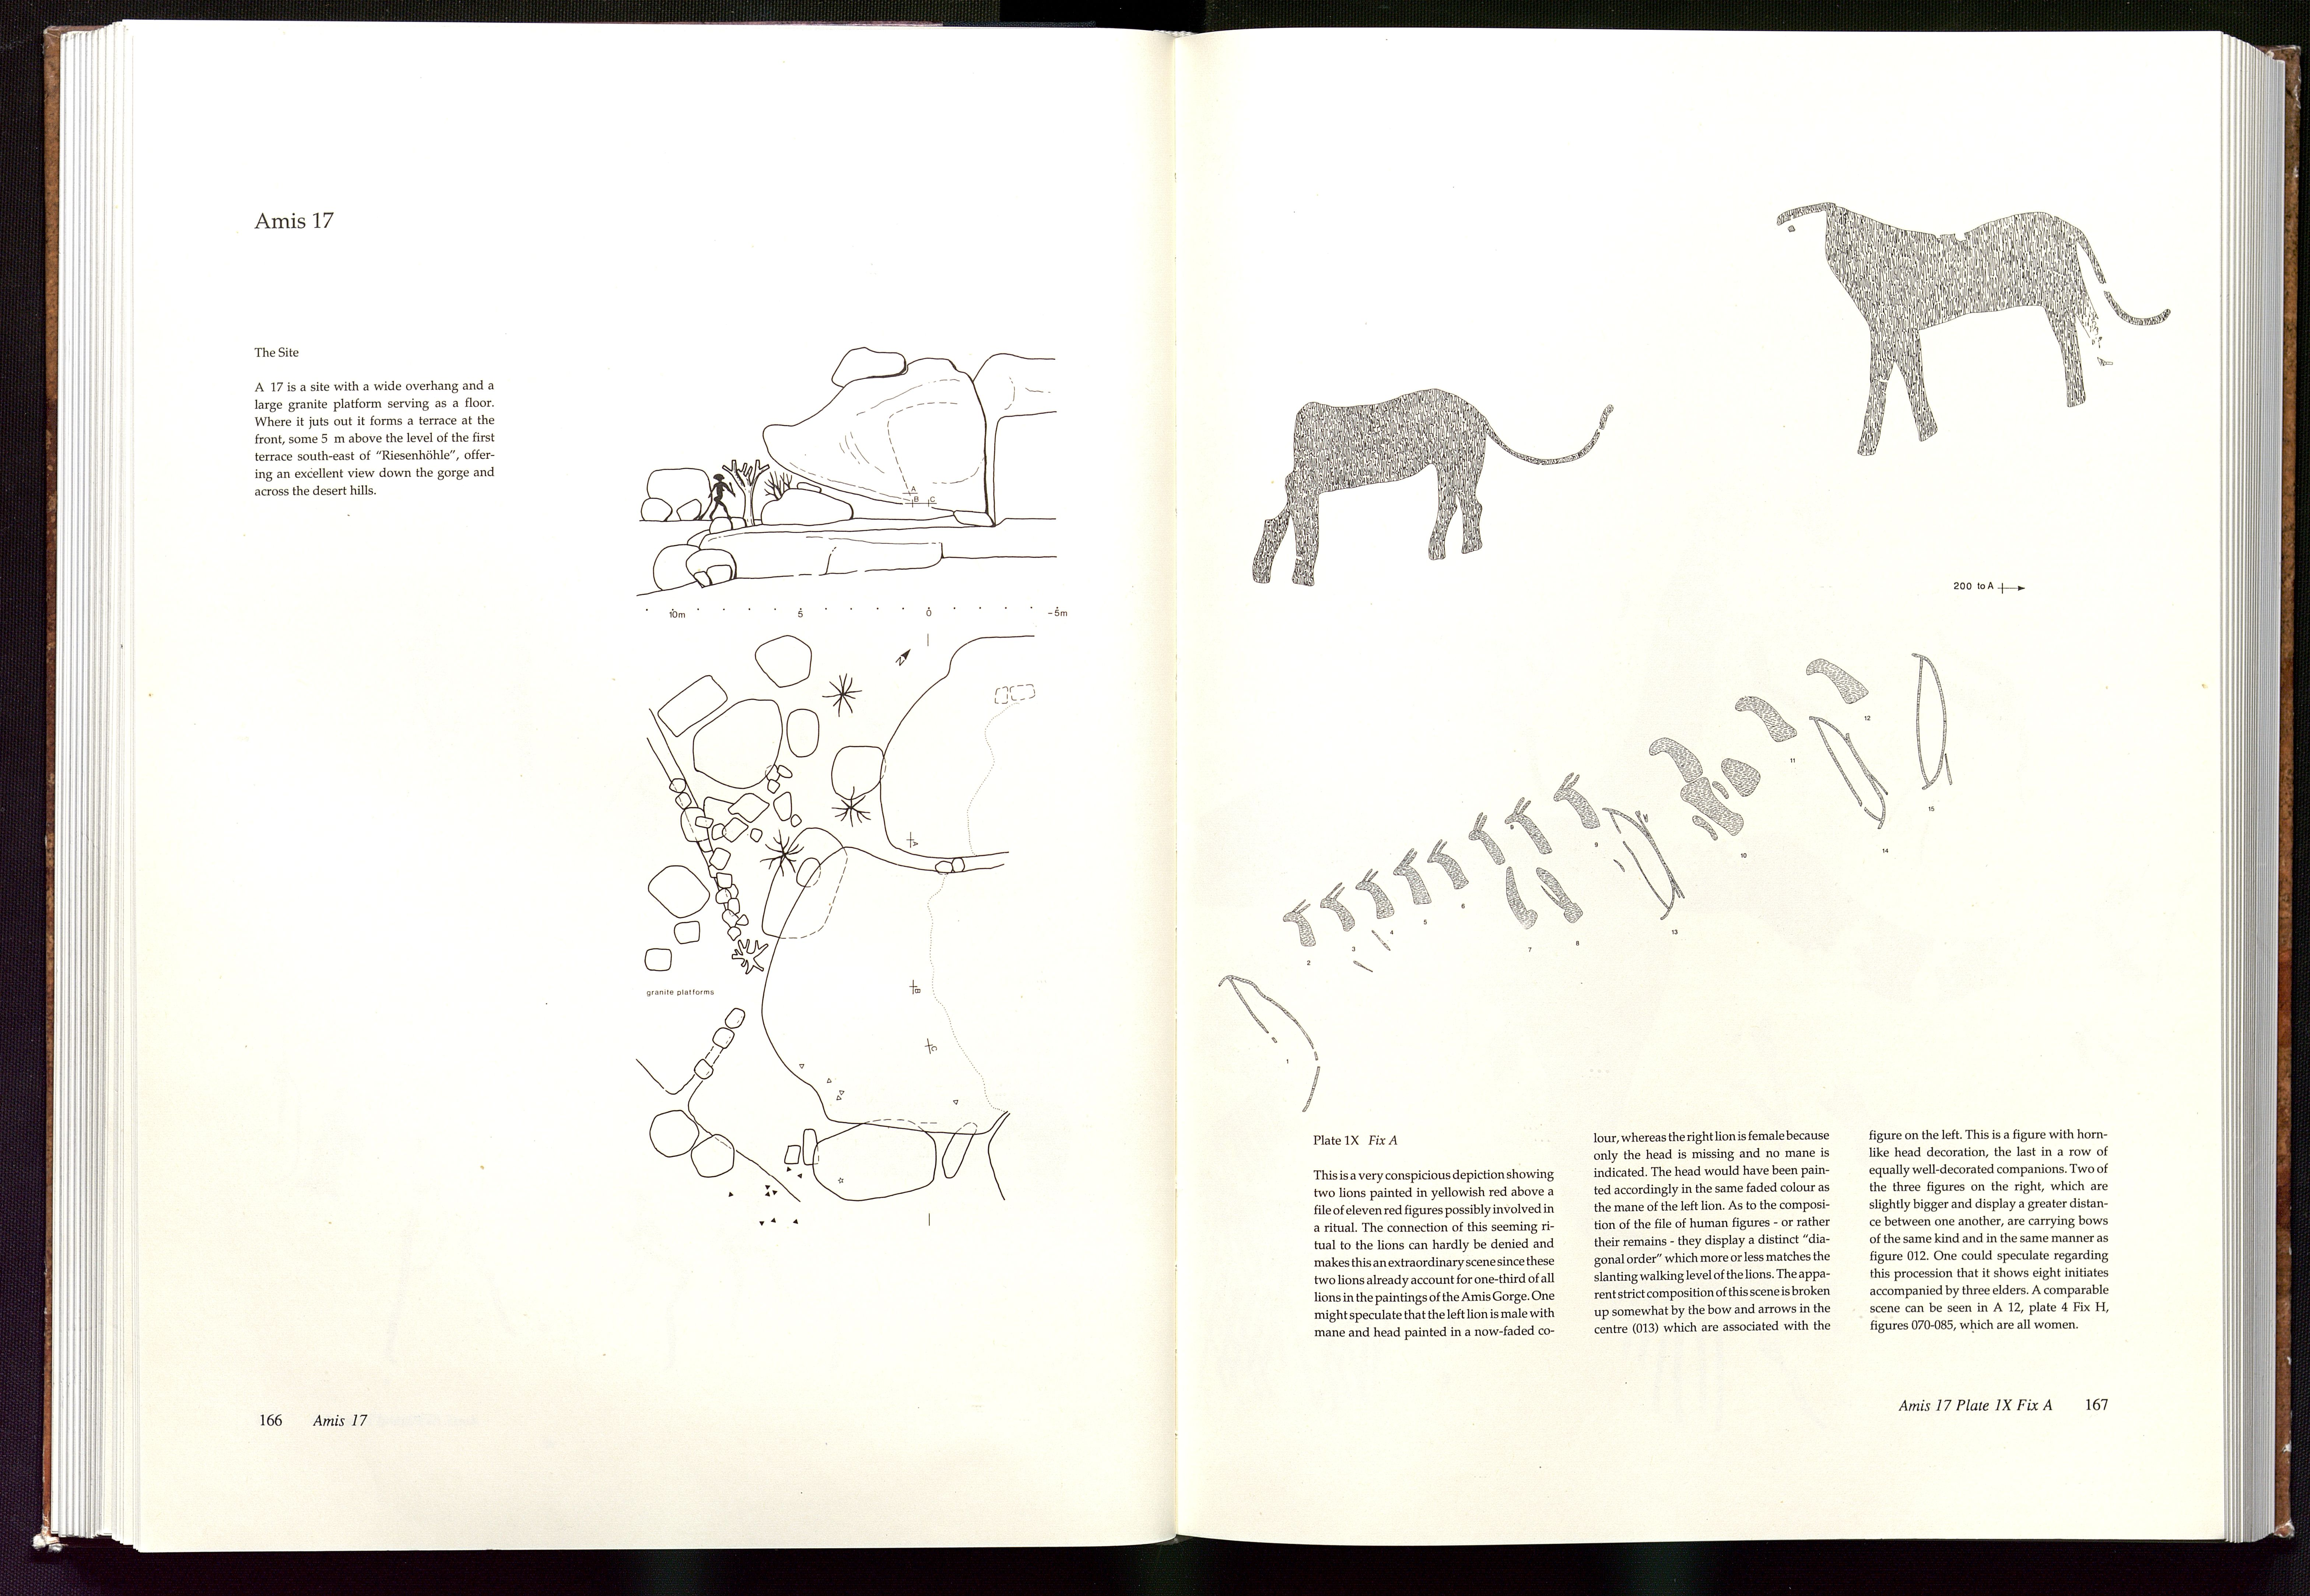animal: (1768, 190, 2187, 458), (1218, 379, 1634, 588)
